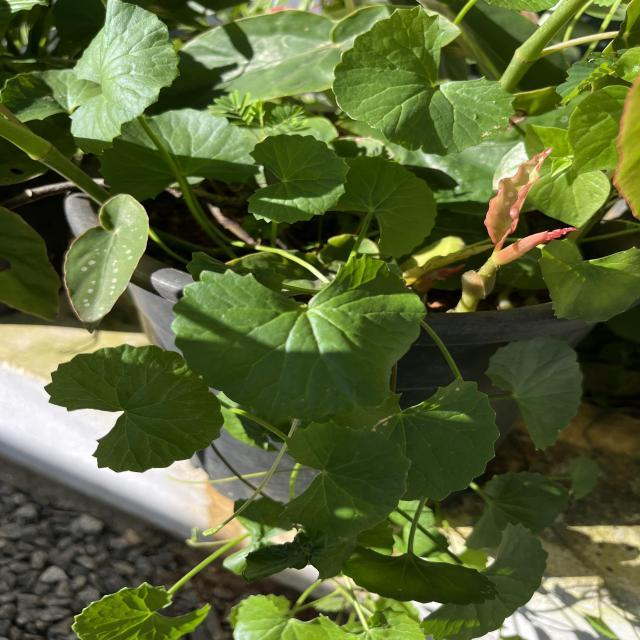Centella asiatica: (329, 2, 521, 158), (39, 342, 228, 474), (65, 0, 183, 157), (245, 130, 353, 226)
